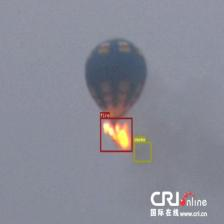fire: (100, 118, 132, 152)
smoke: (134, 141, 152, 162)
